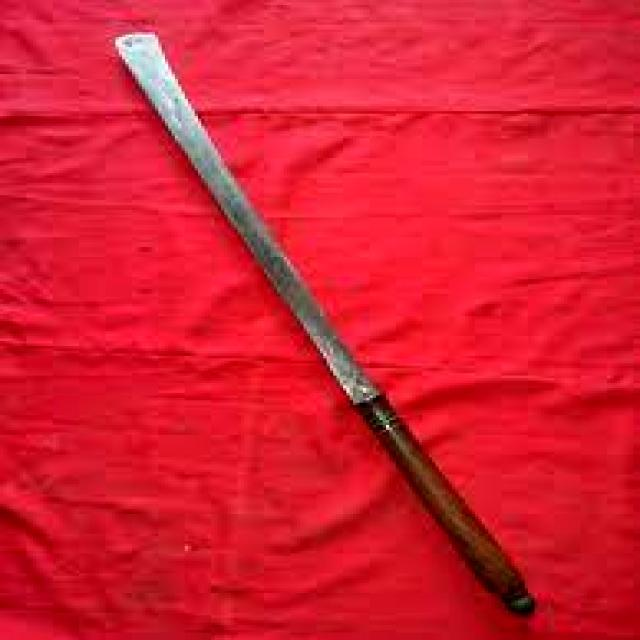long sword: (110, 25, 560, 622)
